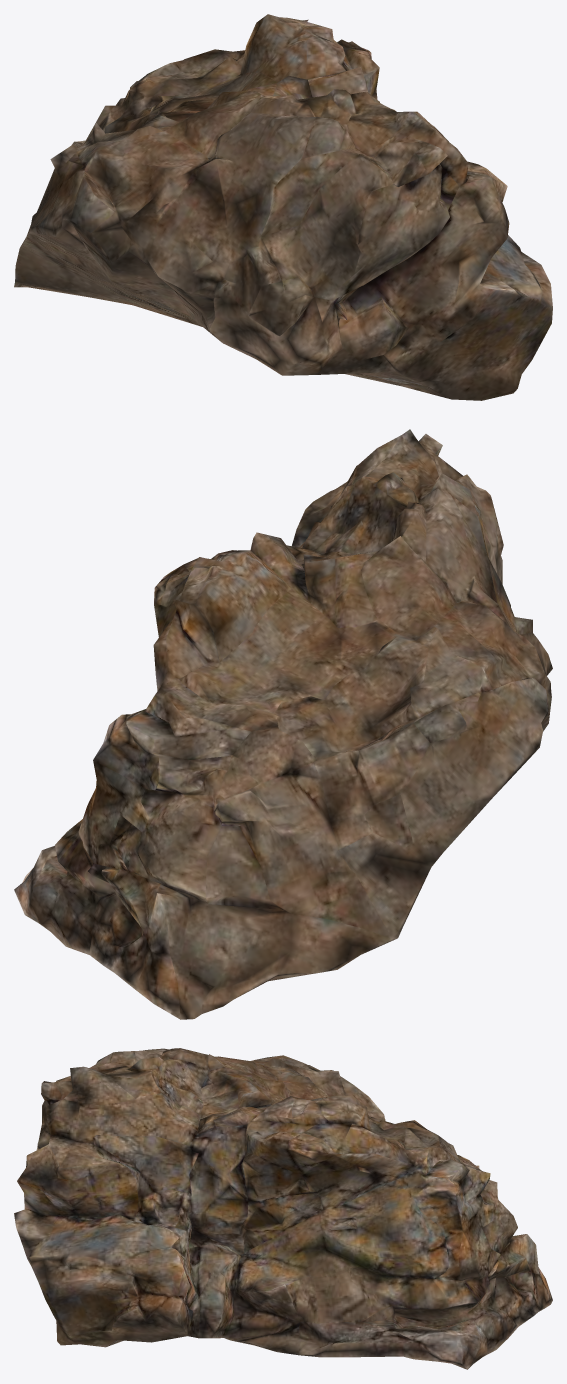
File: boulder_01.glb
3 views of the same model, one above another, from view 1: azimuth 30°, elevation 25°; view 2: azimuth 150°, elevation 25°; view 3: azimuth 270°, elevation 25° (orthographic). The views are drawn at different scales.
Bounding box in the file's own units: 1.26 × 0.9795 × 1.81.
Materials: 1 (1 with a texture image).
